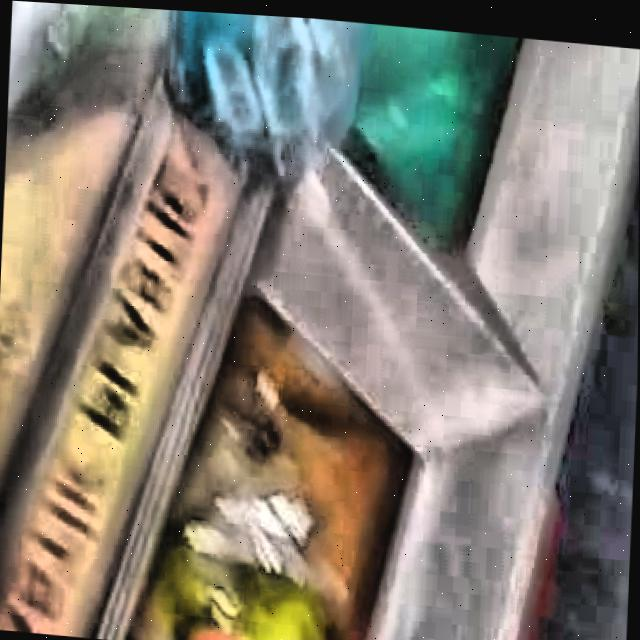plastic: (173, 8, 360, 166)
